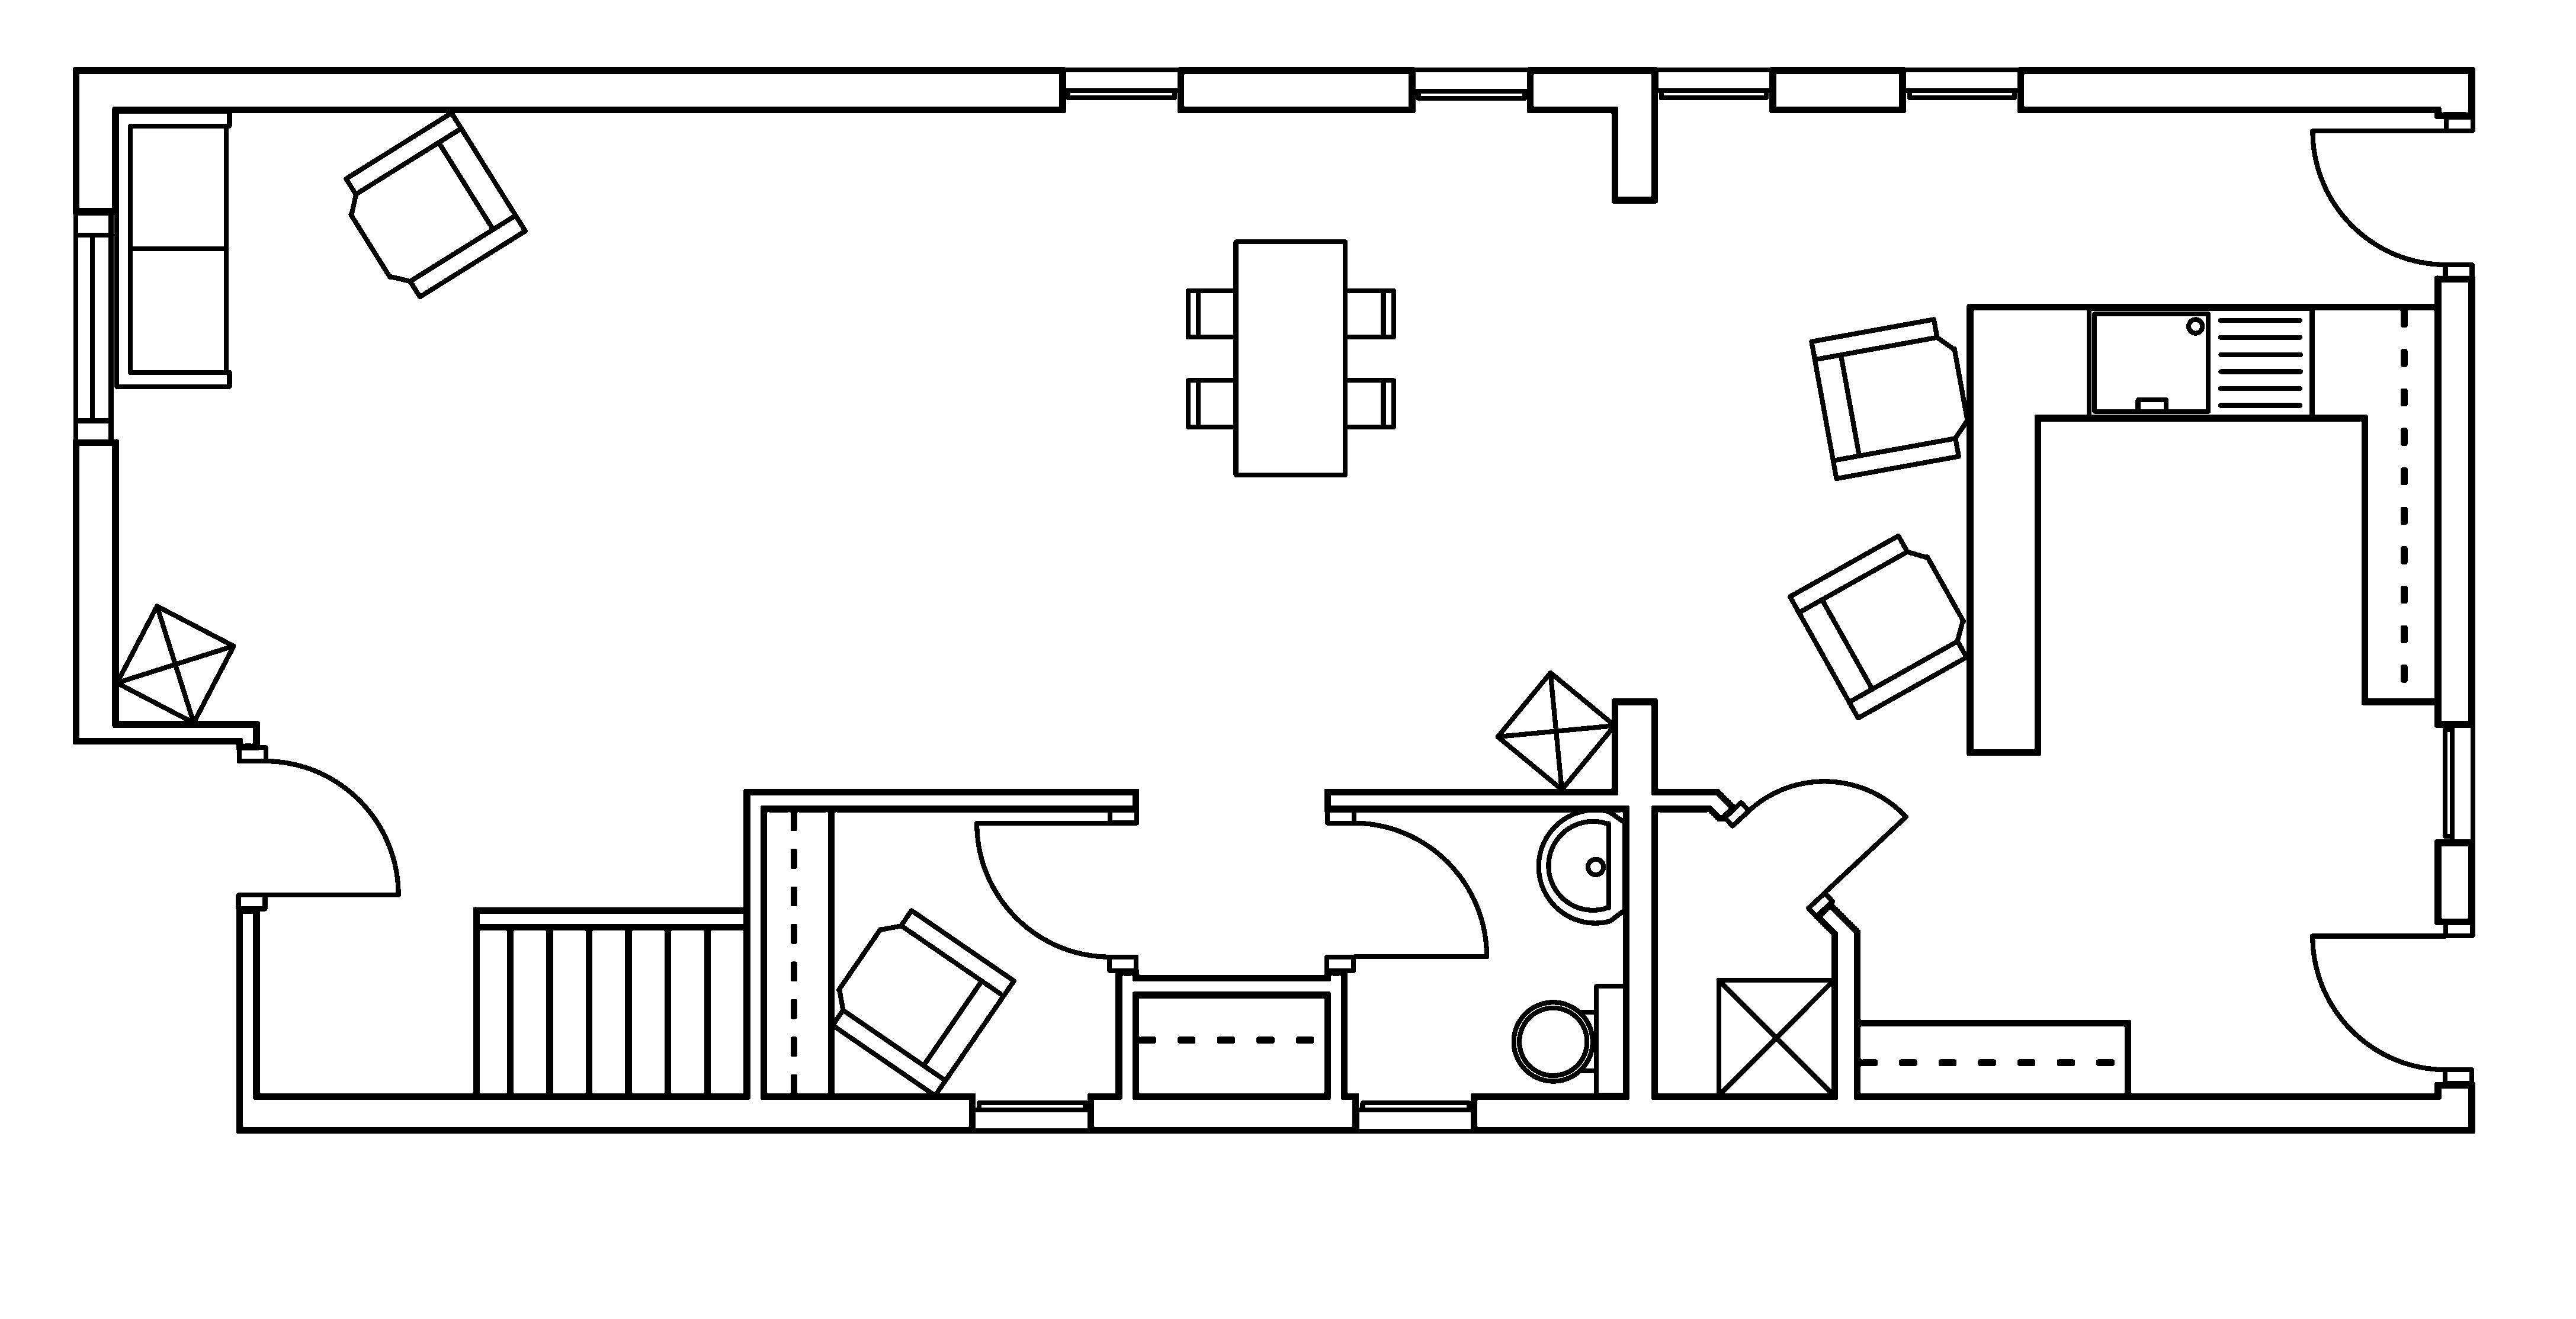armchair: (829, 907, 1016, 1099), (343, 109, 528, 299), (1786, 532, 1969, 720), (1808, 316, 1971, 481)
coffee_table: (1493, 670, 1618, 792), (113, 602, 237, 725), (1715, 976, 1836, 1099)
dining_table: (1184, 239, 1396, 478)
large_sink: (1512, 983, 1628, 1097)
large_sofa: (113, 108, 232, 389)
sink: (2085, 305, 2314, 421)
small_sink: (1535, 808, 1628, 925)
